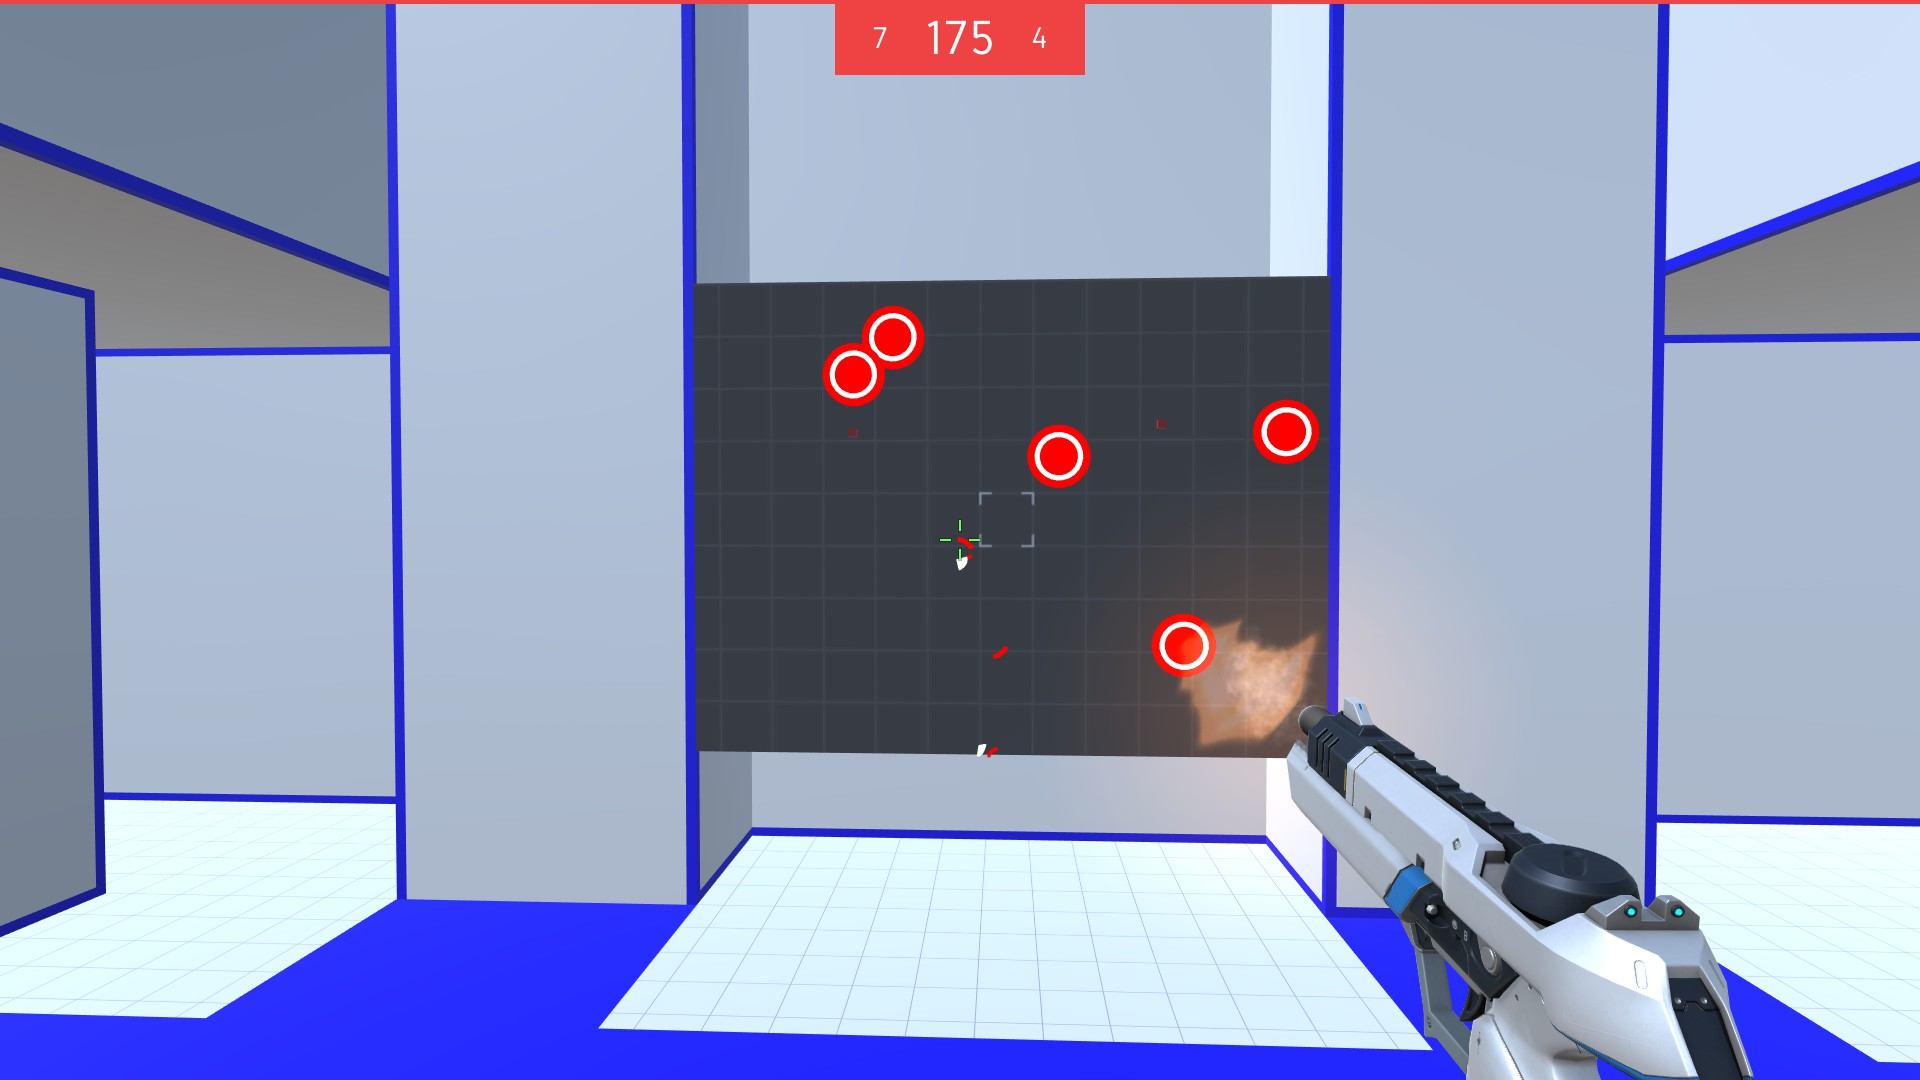target: (1244, 398, 1323, 469), (1023, 425, 1095, 492), (1149, 613, 1218, 680), (861, 301, 924, 373), (822, 342, 884, 407)
